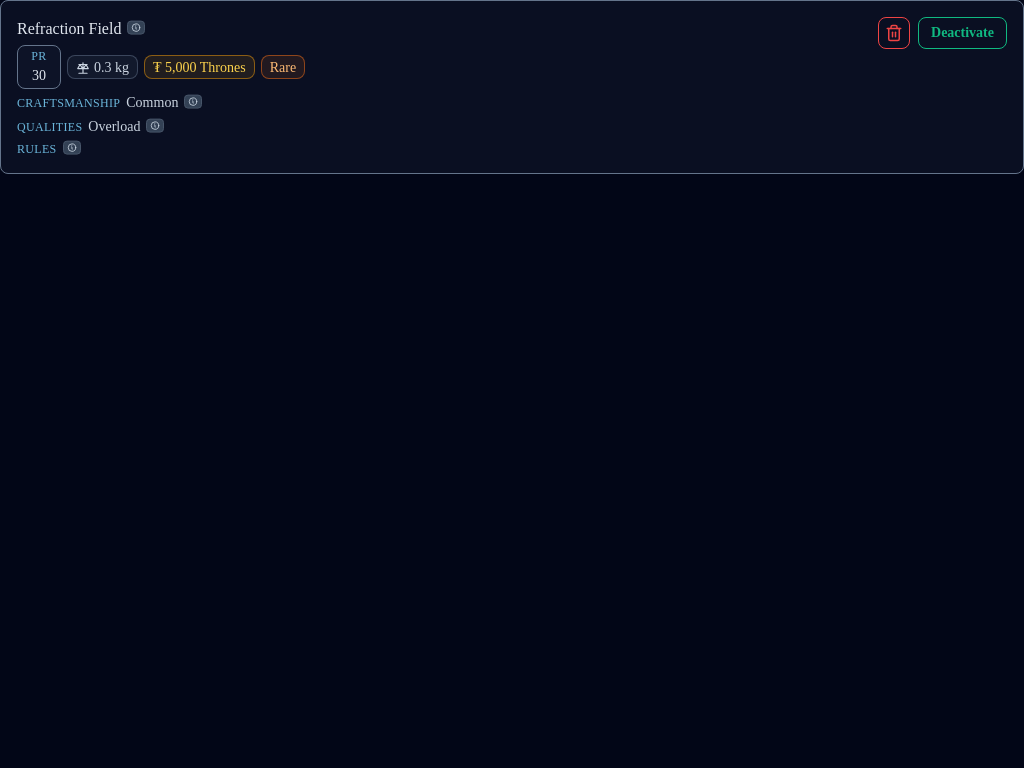
Test: ForceFieldRow shared entry pieces › always has an information icon and says no description was recorded
Click the button named "Show information about Refraction Field".
click(136, 28)  # box [127,21,145,35]
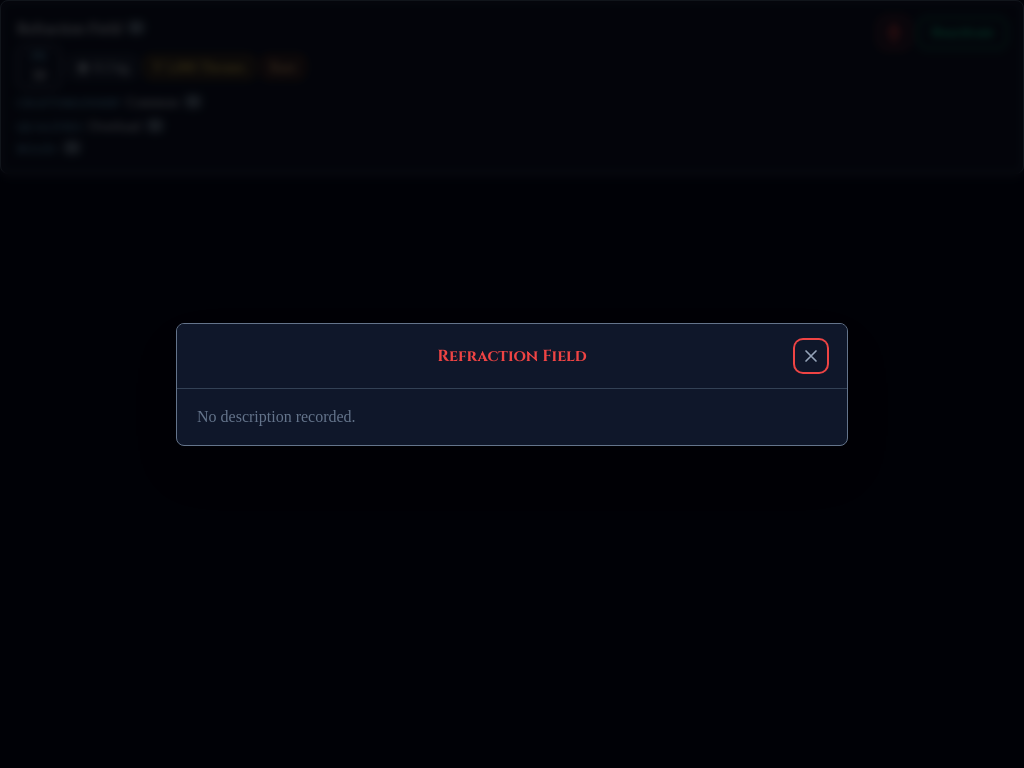
Check: the text "No description recorded." is shown, box [197,408,356,424]
